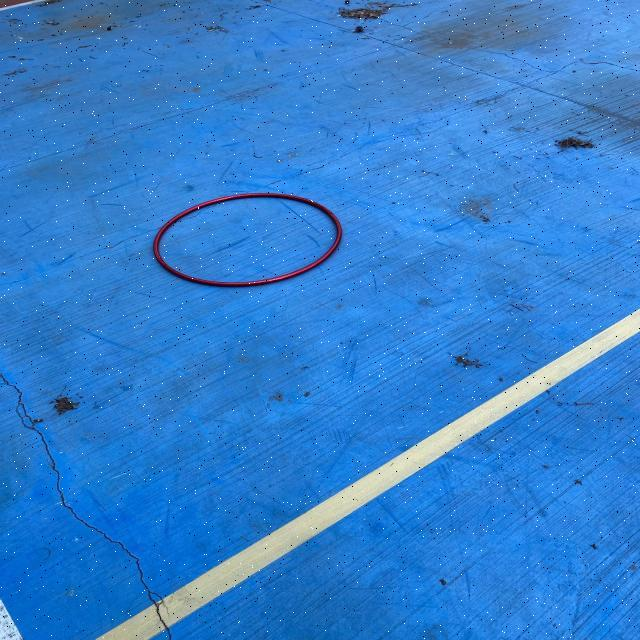Circle: (152, 192, 342, 288)
